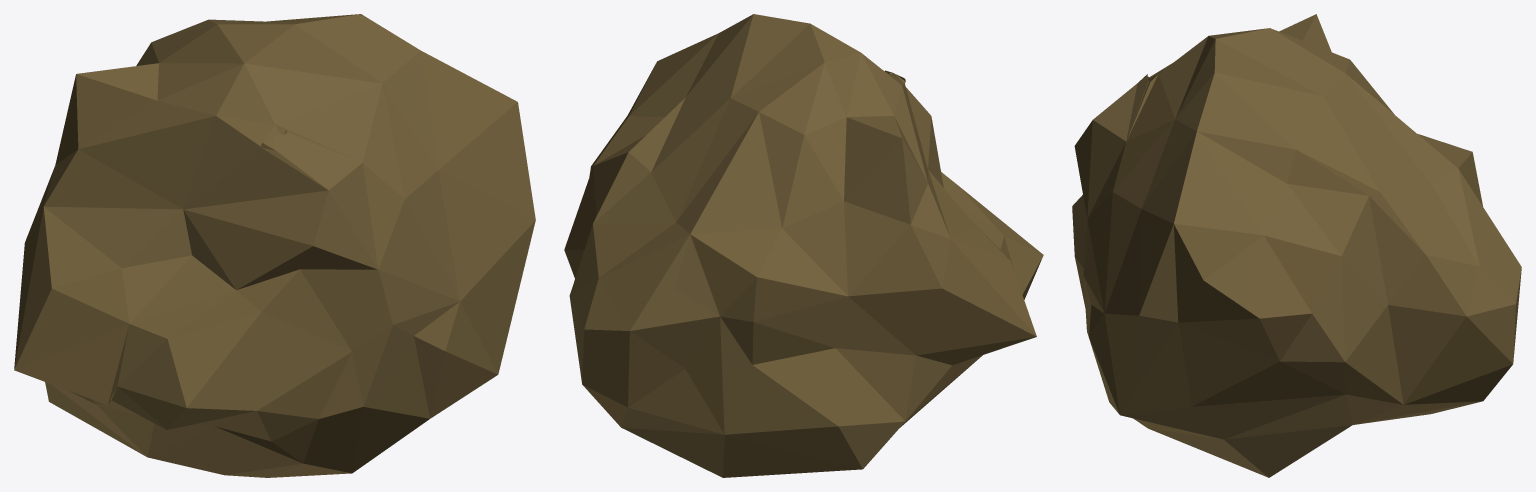
The model's file is my_mesh_rock SubTool10.glb.
The picture shows the model from 3 angles, left to right: view 1: azimuth 30°, elevation 25°; view 2: azimuth 150°, elevation 25°; view 3: azimuth 270°, elevation 25°; orthographic projection. The views are drawn at different scales.
Parts seen in each view (by area): view 1: rock SubTool10; view 2: rock SubTool10; view 3: rock SubTool10.
Part boxes in pixels (x1=…): rock SubTool10: x1=14, y1=14, x2=535, y2=477; rock SubTool10: x1=564, y1=14, x2=1043, y2=477; rock SubTool10: x1=1072, y1=14, x2=1521, y2=477.
Size of the model in its own units: 35.61 by 31.71 by 31.11.
Materials: 1 (1 with a texture image).
